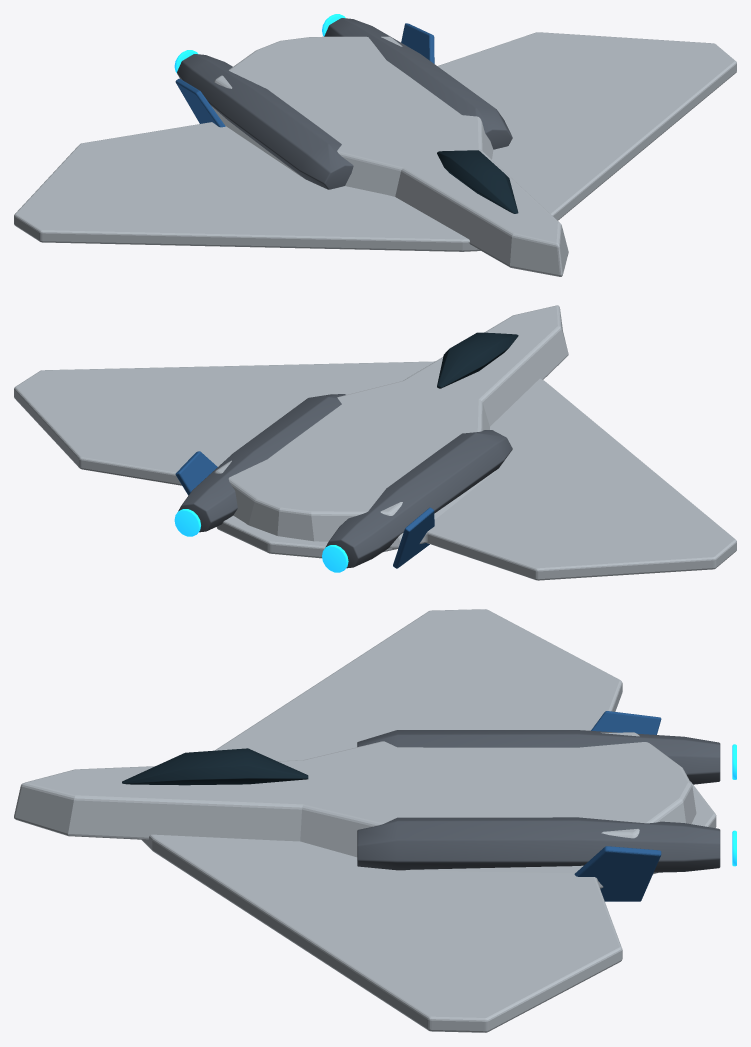
Rendered from vanguard-interceptor-v4-lod1.glb.
3 views of the same model, one above another, from view 1: azimuth 30°, elevation 25°; view 2: azimuth 150°, elevation 25°; view 3: azimuth 270°, elevation 25° (orthographic). The views are drawn at different scales.
Visible parts, largest first — view 1: Vanguard__blended_delta__lod1, Vanguard__lifting_body__lod1, Vanguard__engine_-1__lod1, Vanguard__engine_+1__lod1, Vanguard__canopy__lod1, Vanguard__fin_-1__lod1, Vanguard__fin_+1__lod1; view 2: Vanguard__blended_delta__lod1, Vanguard__lifting_body__lod1, Vanguard__engine_-1__lod1, Vanguard__engine_+1__lod1, Vanguard__canopy__lod1, Vanguard__fin_-1__lod1, Vanguard__fin_+1__lod1, Vanguard__nozzle_-1__lod1, Vanguard__nozzle_+1__lod1; view 3: Vanguard__blended_delta__lod1, Vanguard__lifting_body__lod1, Vanguard__engine_+1__lod1, Vanguard__engine_-1__lod1, Vanguard__canopy__lod1, Vanguard__fin_+1__lod1, Vanguard__fin_-1__lod1.
Boxes of the visible parts, bbox=[...] form: Vanguard__blended_delta__lod1: bbox=[14, 32, 736, 251]; Vanguard__lifting_body__lod1: bbox=[211, 36, 568, 276]; Vanguard__engine_-1__lod1: bbox=[177, 54, 353, 189]; Vanguard__engine_+1__lod1: bbox=[324, 18, 512, 149]; Vanguard__canopy__lod1: bbox=[437, 150, 518, 213]; Vanguard__fin_-1__lod1: bbox=[175, 78, 225, 127]; Vanguard__fin_+1__lod1: bbox=[401, 23, 434, 63]; Vanguard__blended_delta__lod1: bbox=[14, 361, 736, 580]; Vanguard__lifting_body__lod1: bbox=[214, 305, 568, 548]; Vanguard__engine_-1__lod1: bbox=[325, 430, 512, 568]; Vanguard__engine_+1__lod1: bbox=[178, 394, 345, 532]; Vanguard__canopy__lod1: bbox=[437, 332, 518, 388]; Vanguard__fin_-1__lod1: bbox=[393, 507, 434, 568]; Vanguard__fin_+1__lod1: bbox=[175, 451, 217, 495]; Vanguard__nozzle_-1__lod1: bbox=[322, 545, 348, 572]; Vanguard__nozzle_+1__lod1: bbox=[174, 509, 200, 536]; Vanguard__blended_delta__lod1: bbox=[141, 609, 716, 1032]; Vanguard__lifting_body__lod1: bbox=[14, 732, 696, 873]; Vanguard__engine_+1__lod1: bbox=[357, 817, 720, 872]; Vanguard__engine_-1__lod1: bbox=[357, 730, 720, 784]; Vanguard__canopy__lod1: bbox=[122, 748, 308, 785]; Vanguard__fin_+1__lod1: bbox=[574, 846, 661, 901]; Vanguard__fin_-1__lod1: bbox=[591, 711, 661, 734].
Bounding box in the file's own units: 16.95 × 1.78 × 12.6.
